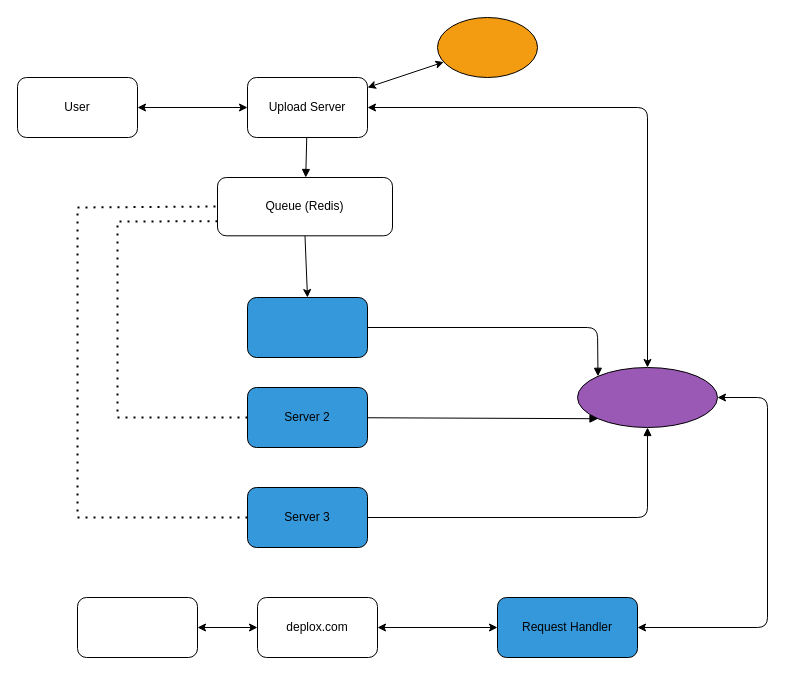
Some shapes in this 794 by 675 pixel diagram are drawn without their labels. The shapes that lost their labels are listed below. From the top down, each one's centre as x and y in pixels, then its label:
point 487,47: GitHub
point 307,327: Server 1
point 647,397: S3
point 137,627: Global Users
